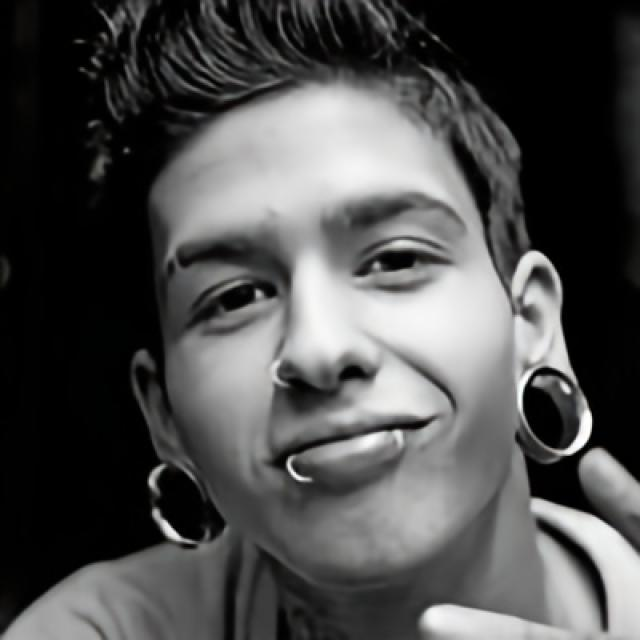content: (160, 77, 510, 587)
